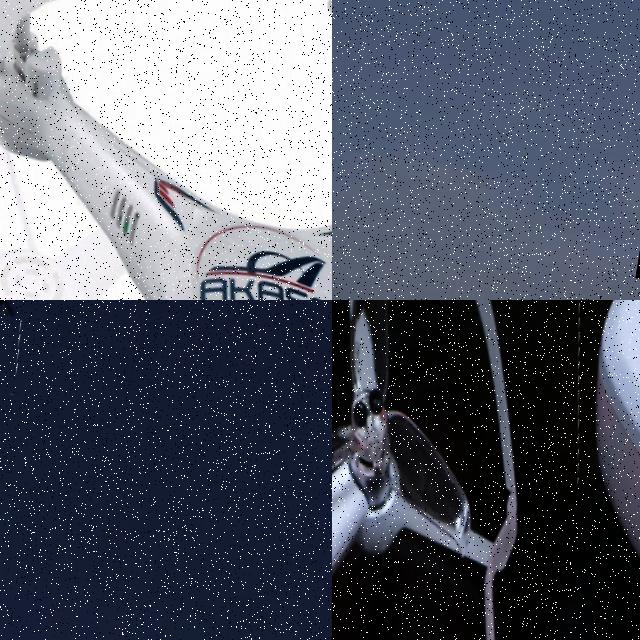drone: (0, 0, 332, 300), (332, 300, 615, 640)
